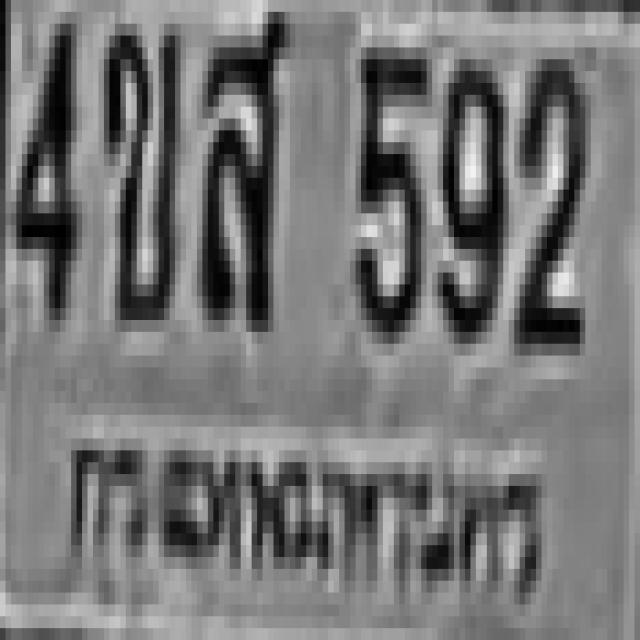11KhorKhai: (99, 12, 175, 320)
2: (509, 47, 580, 344)
4: (11, 12, 71, 308)
49SorSuea: (197, 0, 284, 320)
5: (350, 35, 427, 332)
9: (435, 47, 500, 332)
Bangkok: (48, 411, 550, 624)
